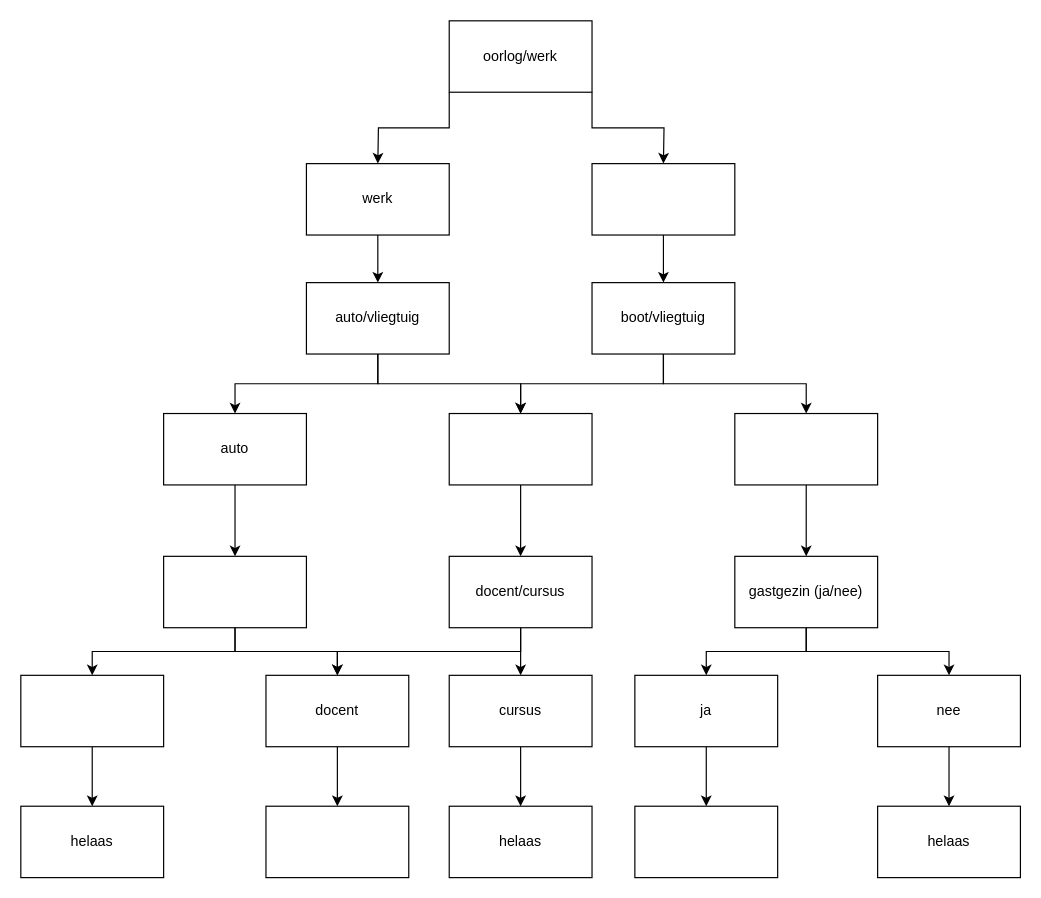
Some shapes in this 1041 by 898 pixel diagram are drawn without their labels. The shapes that lost their labels are listed below. From the top down, each one's centre as x and y in pixels, then its label:
the point at 663,198: oorlog
the point at 520,448: vliegtuig
the point at 806,448: boot
the point at 234,591: supermarkt/docent
the point at 92,710: supermarkt
the point at 337,841: krijgt werk, kan blijven wonen
the point at 706,841: schooling, werk etc
